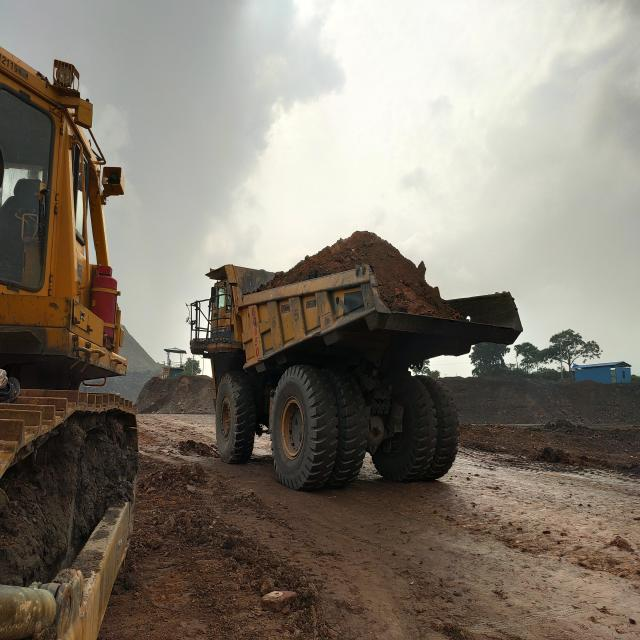buldozerpayloadergrader: (0, 47, 138, 640)
dump_truck: (190, 233, 522, 490)
